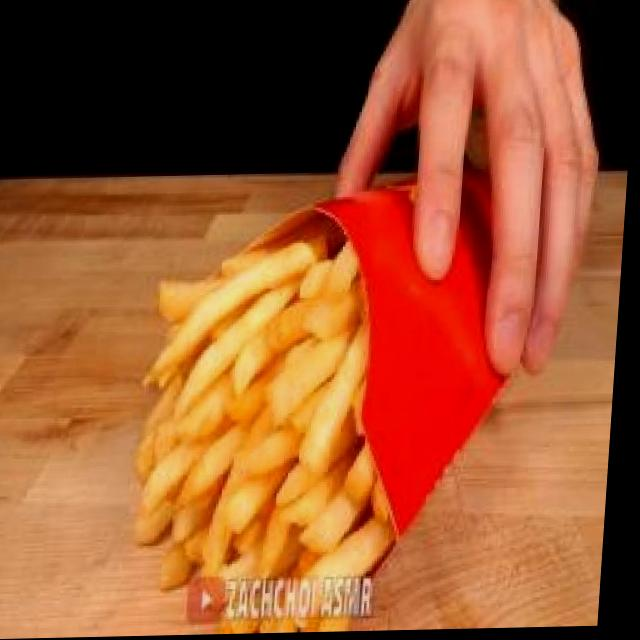french fries: (98, 134, 473, 638)
